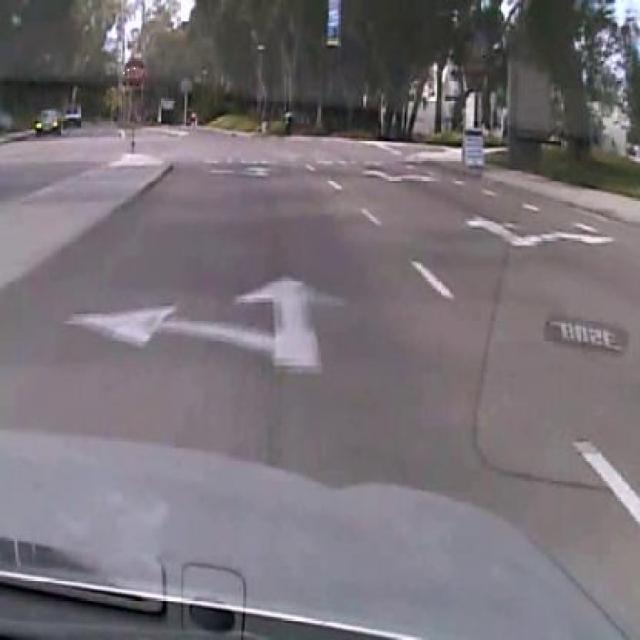stop: (123, 56, 147, 88), (465, 52, 487, 82)
